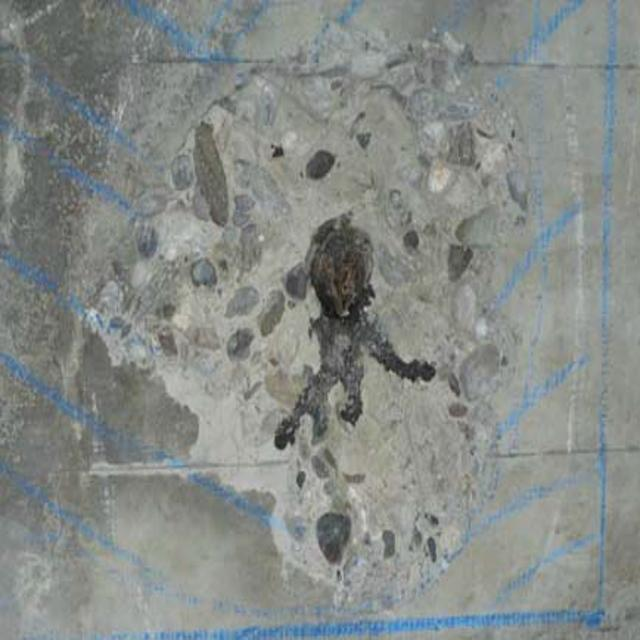spalling: (103, 24, 554, 610)
